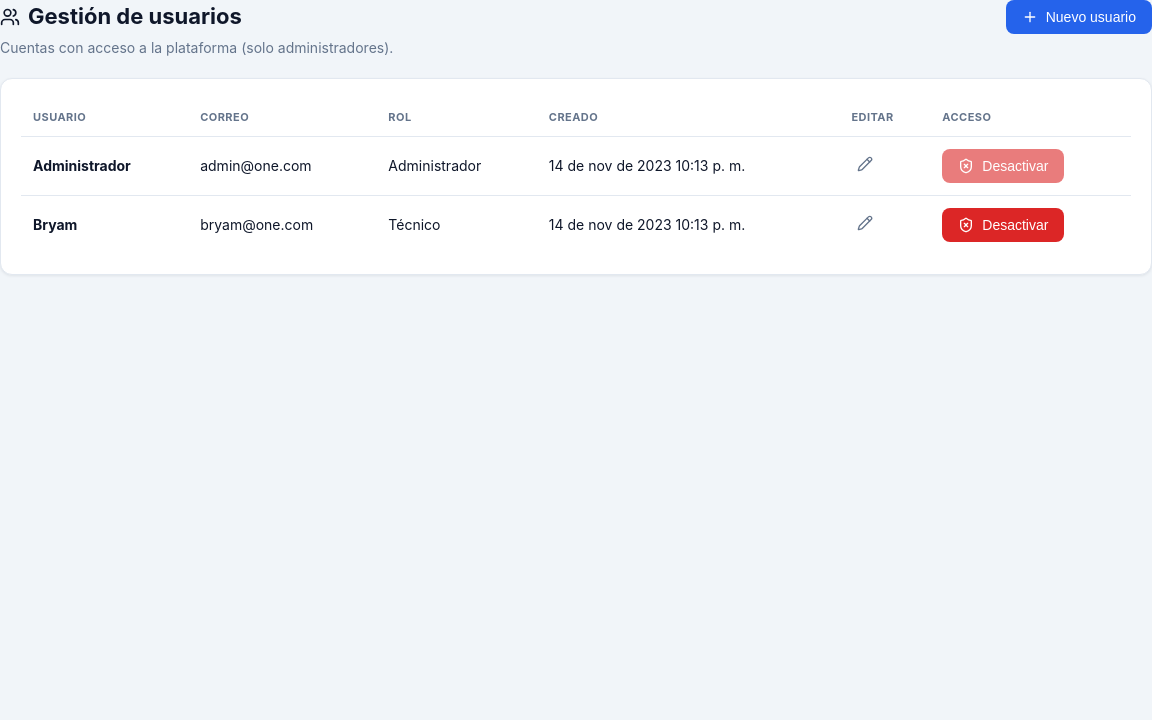
Usuarios › crea un usuario admin desde el modal y refresca la lista
Click the button "Nuevo usuario": (1079, 17) [1006, 0, 1151, 34]
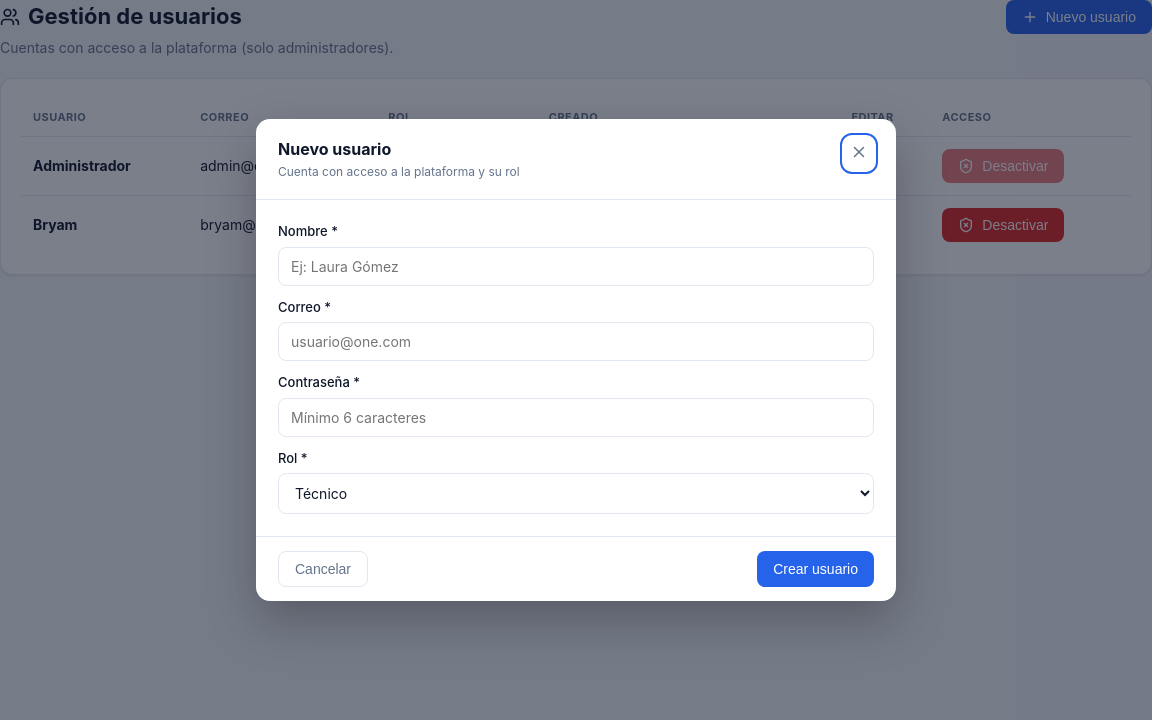
In the field labelled "Nombre *": (576, 266) [278, 246, 874, 286], type "Laura"
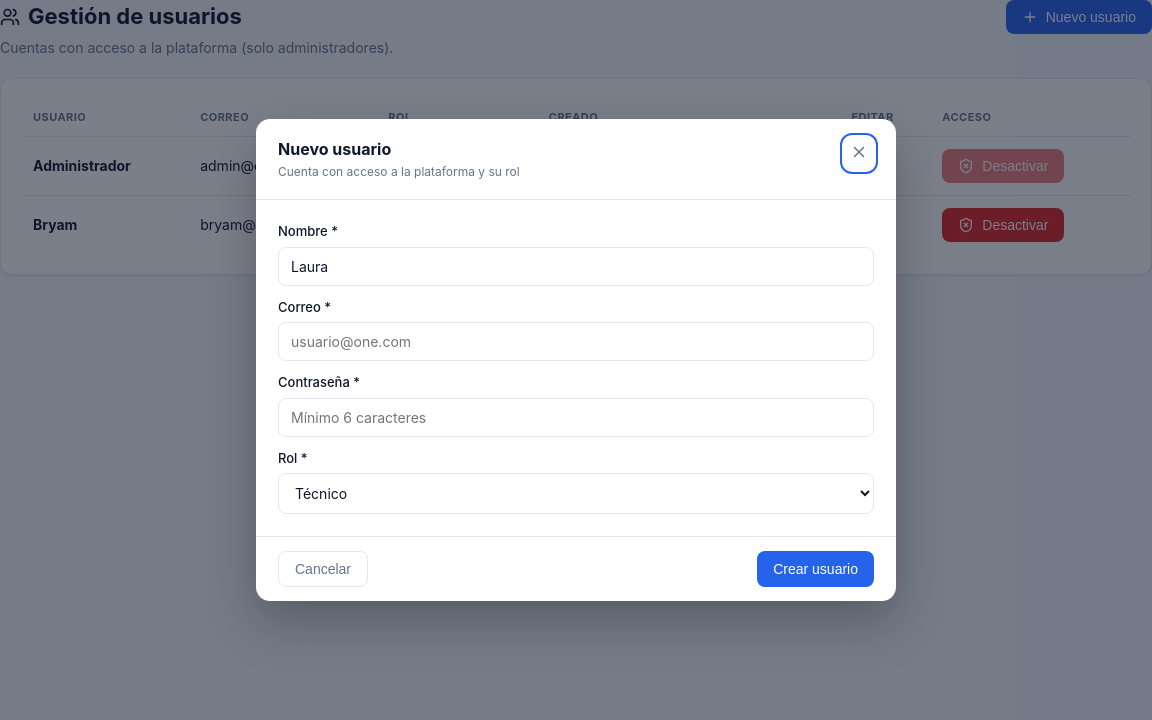
In the field labelled "Correo *": (576, 342) [278, 322, 874, 361], type "laura@one.com"
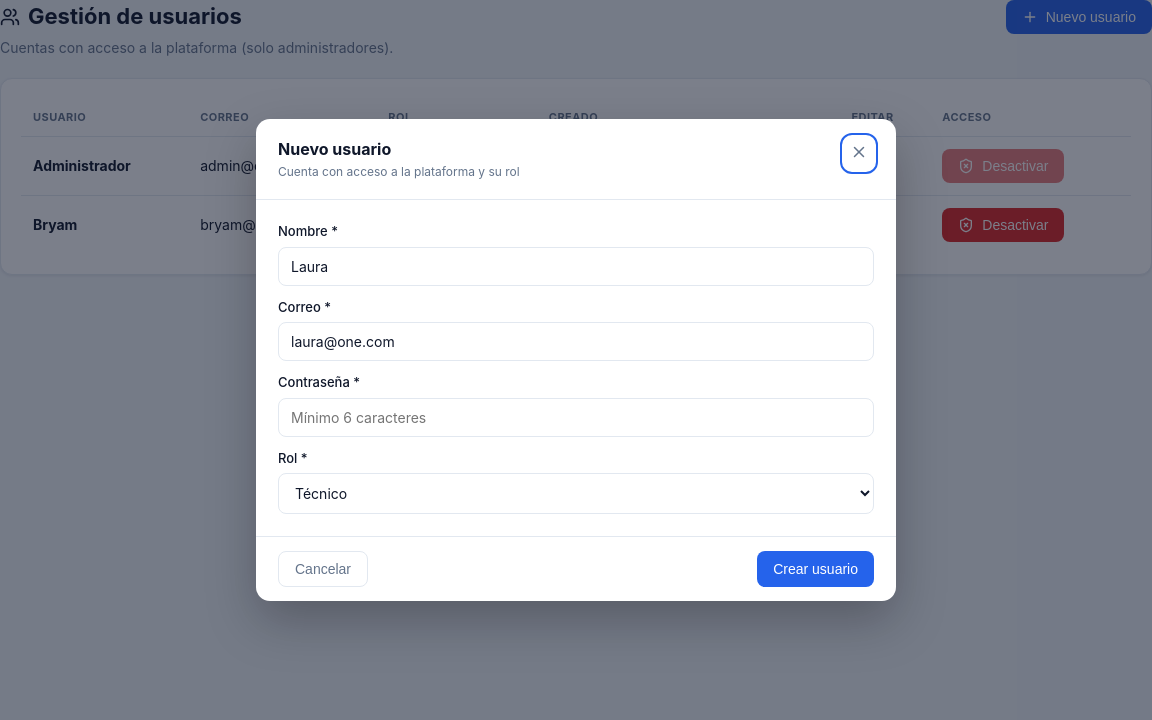
In the password field labelled "Contraseña *": (576, 417) [278, 398, 874, 436], type "clave123"
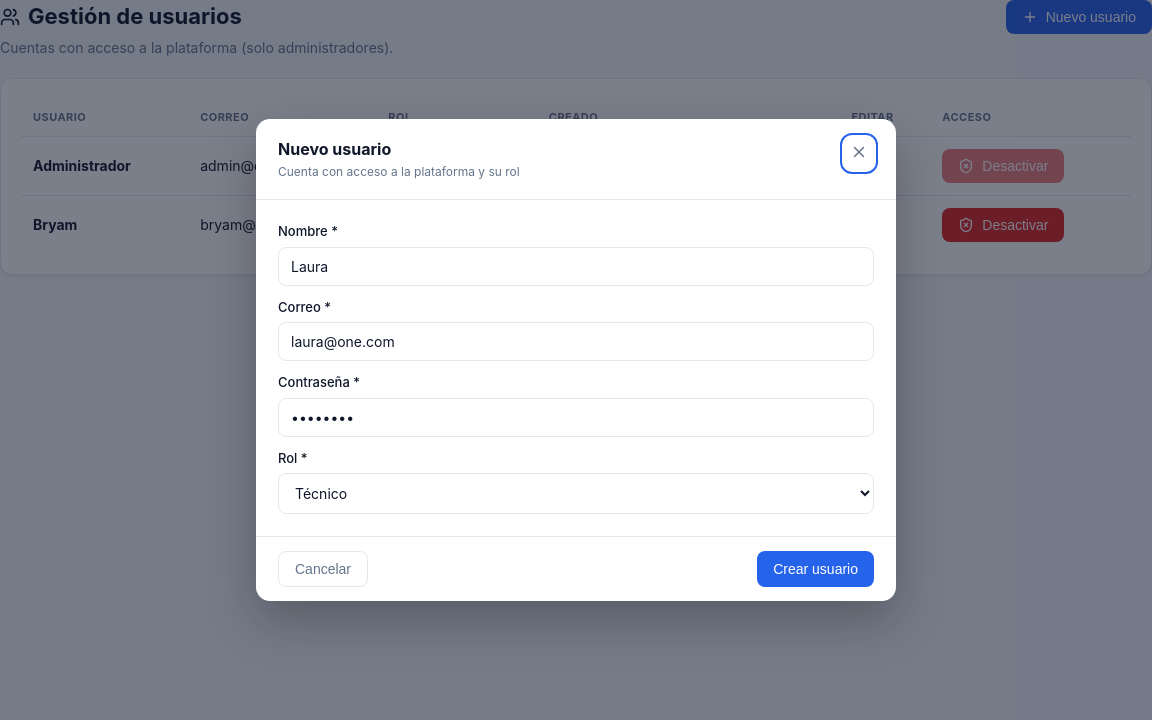
Select "Administrador" in the dropdown labelled "Rol *": (576, 494) [278, 473, 874, 514]
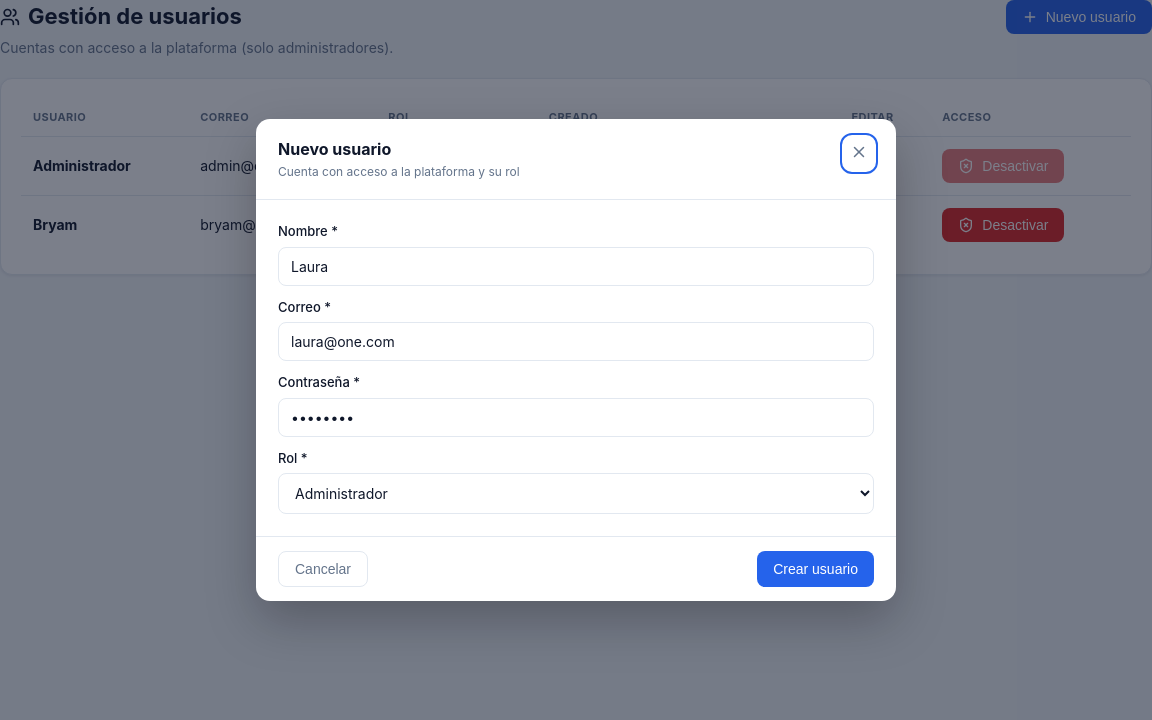
Click the button "Crear usuario": (816, 569) [757, 551, 874, 587]
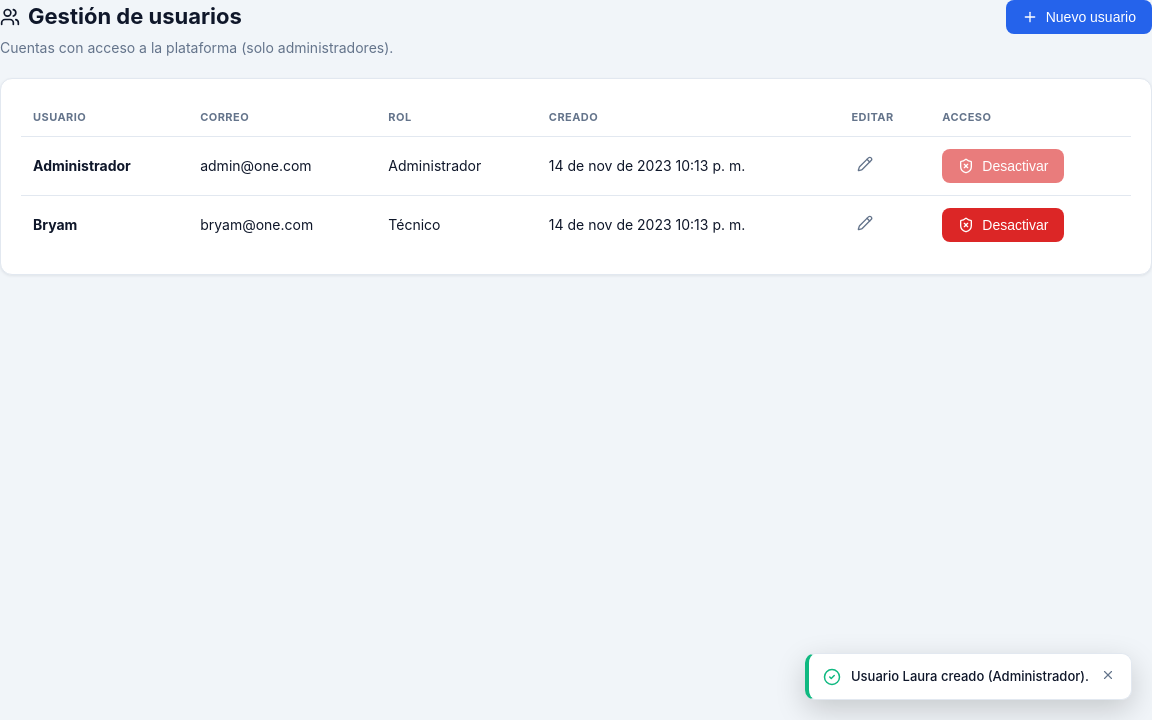
Now the text "Usuario Laura creado (Administrador)." is shown, box [851, 667, 1089, 686]
